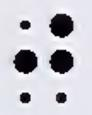hakbang: (14, 13, 74, 104)
